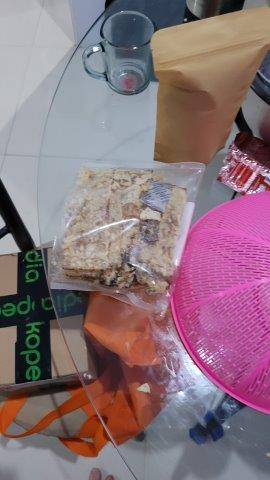plastik: (44, 161, 207, 316)
